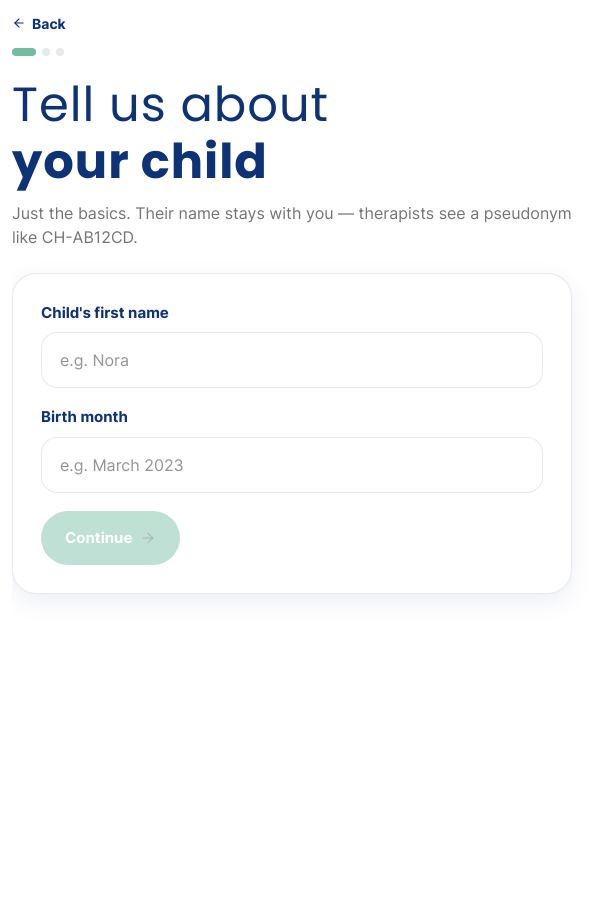
it: ParentAddChild consent › keeps 'I agree' disabled until all four consent boxes are checked
Type "Nora" into the field with placeholder "e.g. Nora" at (292, 360), box [41,332,543,388]
Type "March 2023" into the field with placeholder "e.g. March 2023" at (292, 465), box [41,437,543,493]
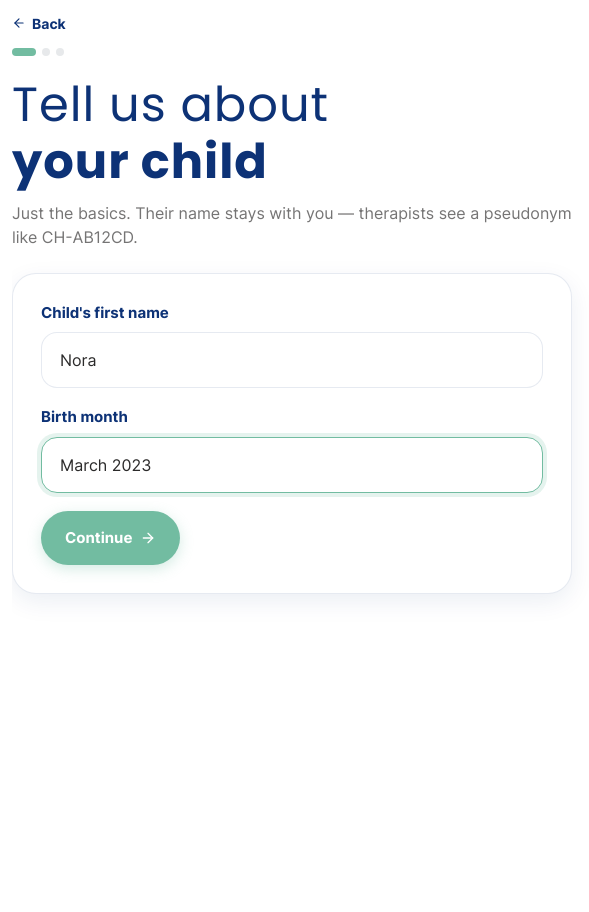
Click the button "Continue" at (111, 538), box [41,511,180,565]
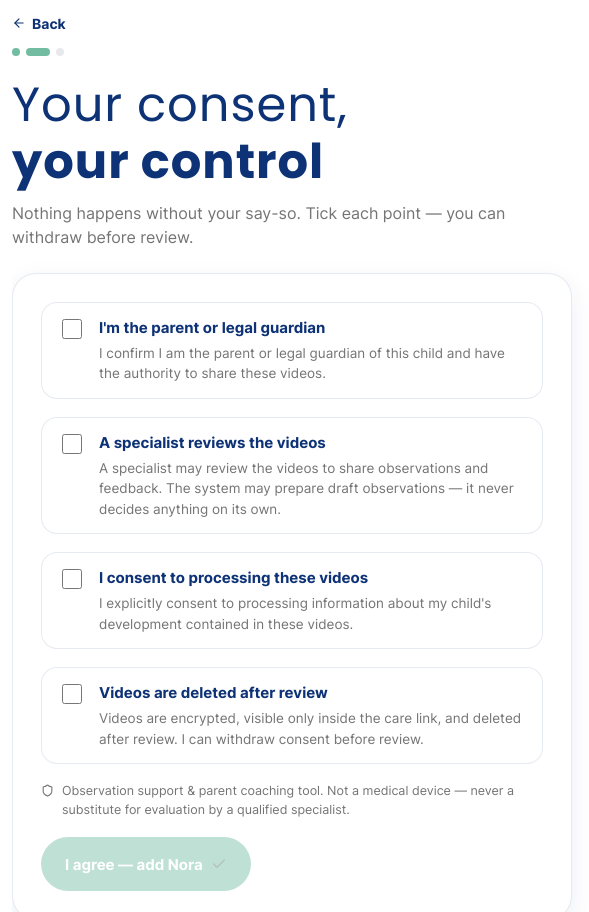
Expected: the number of checkboxes is 4
Expected: the button "I agree — add Nora" is disabled, [41,837,251,891]
Click the 1st checkbox at (72, 329), box [62,319,82,339]
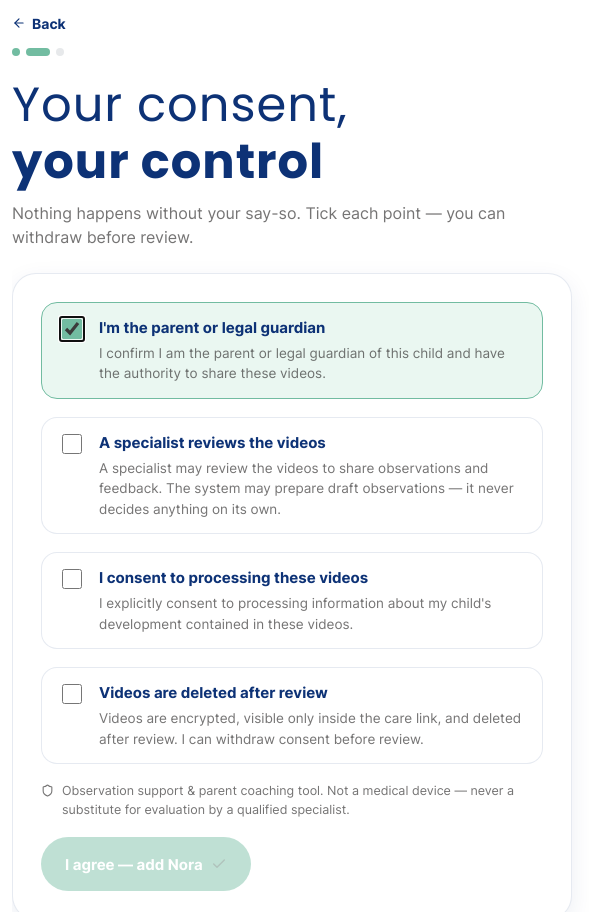
Expected: the button "I agree — add Nora" is disabled, [41,837,251,891]
Click the 2nd checkbox at (72, 444), box [62,434,82,454]
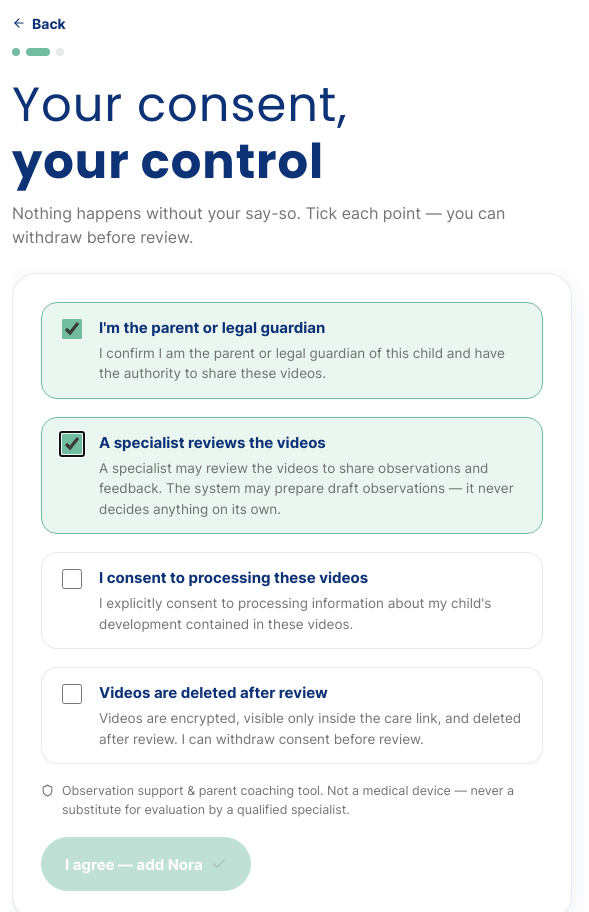
Expected: the button "I agree — add Nora" is disabled, [41,837,251,891]
Click the 3rd checkbox at (72, 579), box [62,569,82,589]
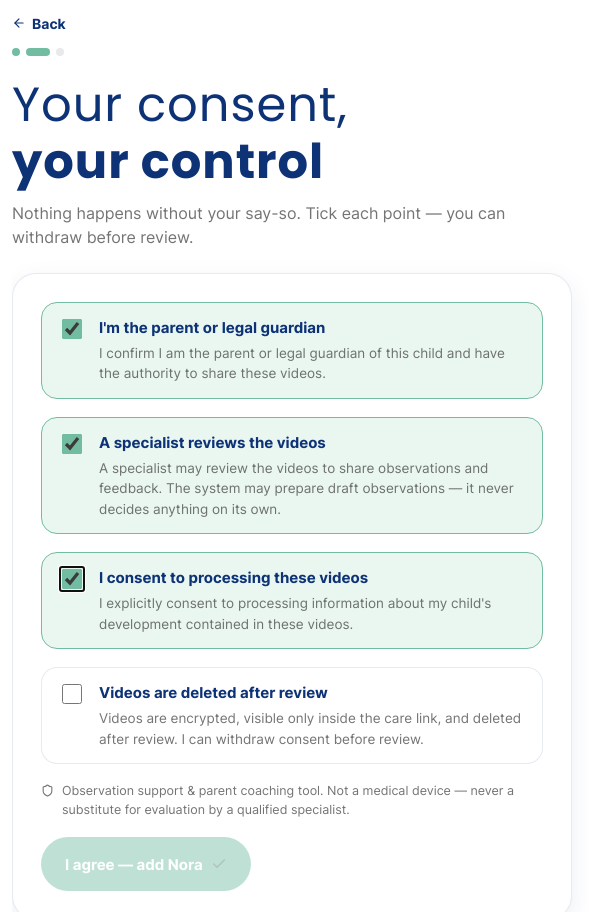
Expected: the button "I agree — add Nora" is disabled, [41,837,251,891]
Click the 4th checkbox at (72, 694), box [62,684,82,704]
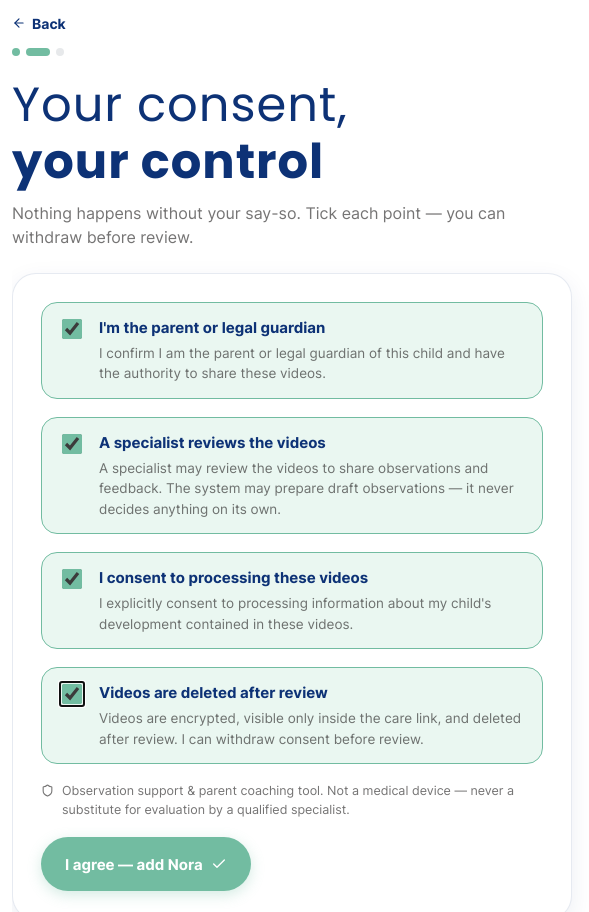
Expected: the button "I agree — add Nora" is enabled, [41,837,251,891]
